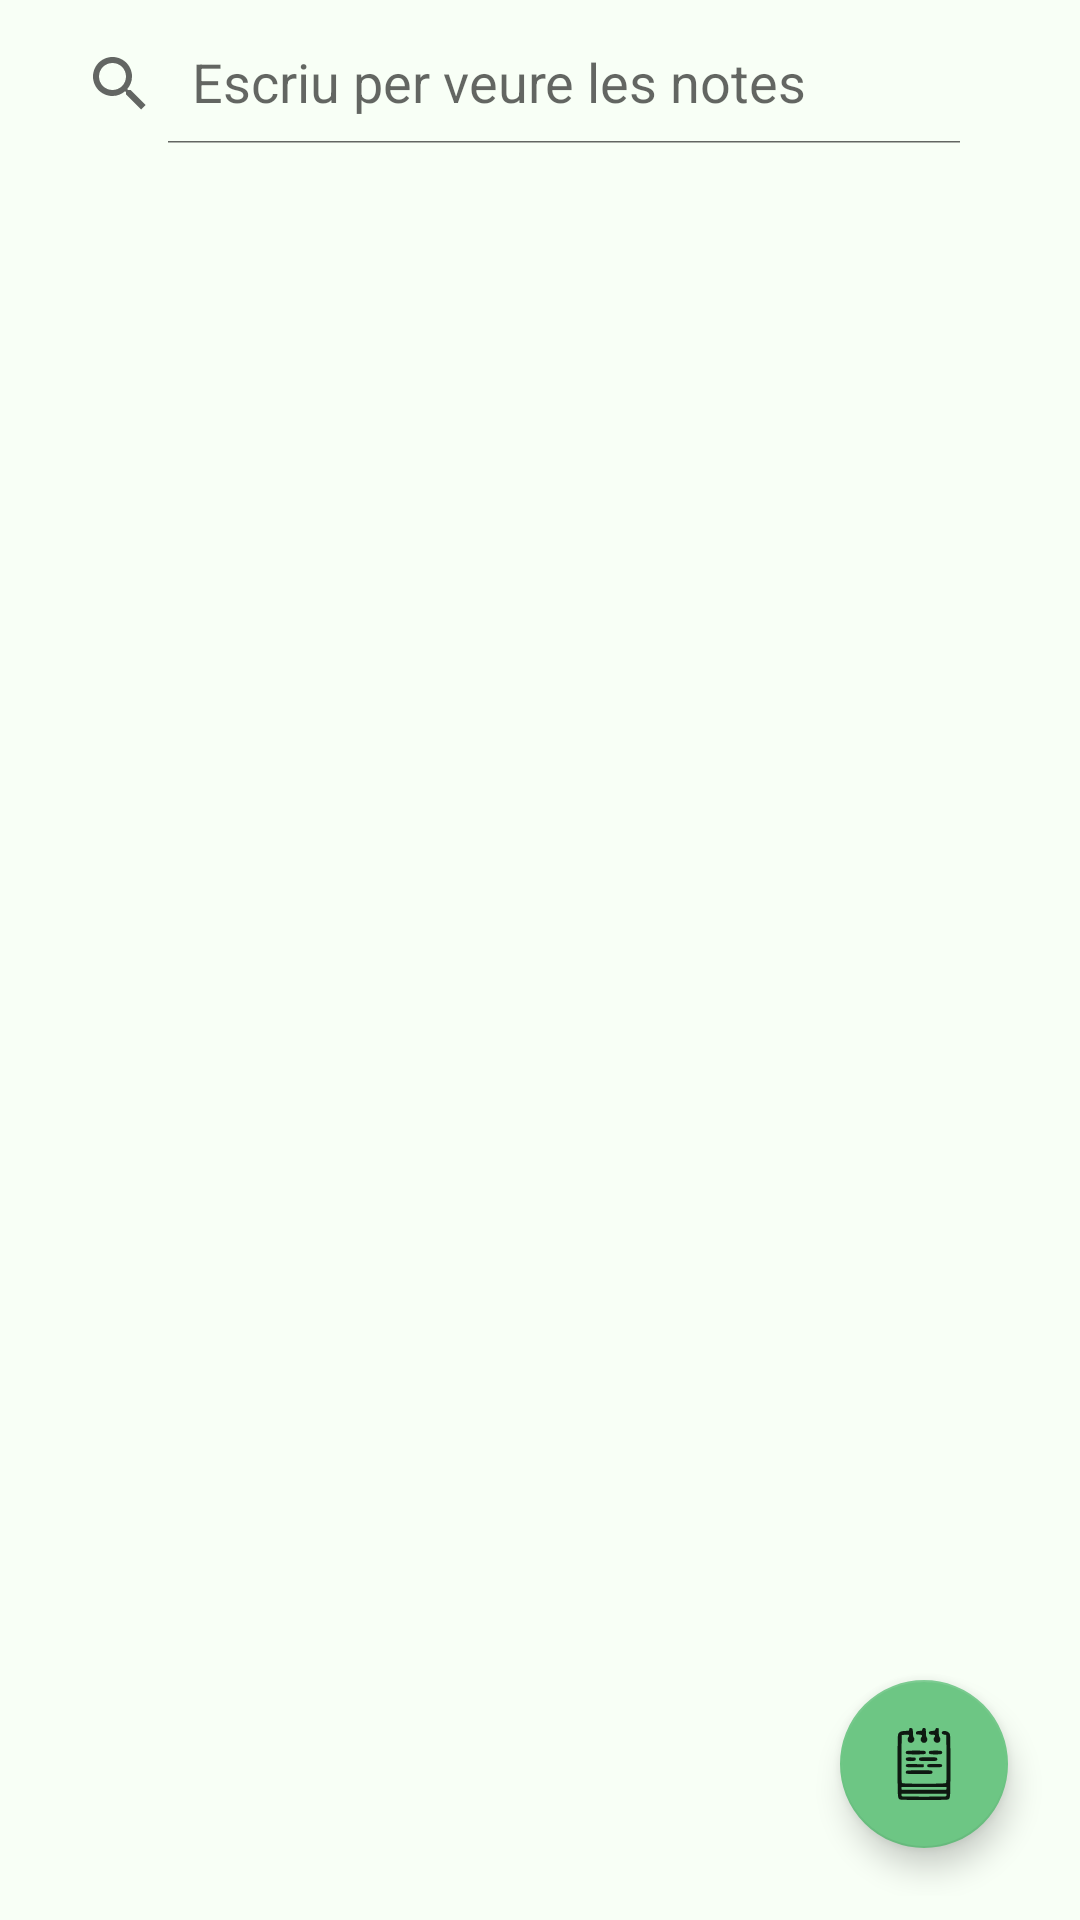

Icon click points for this 1080 × 1920 phone screenshot, format (x,y):
notes: (924,1764)
